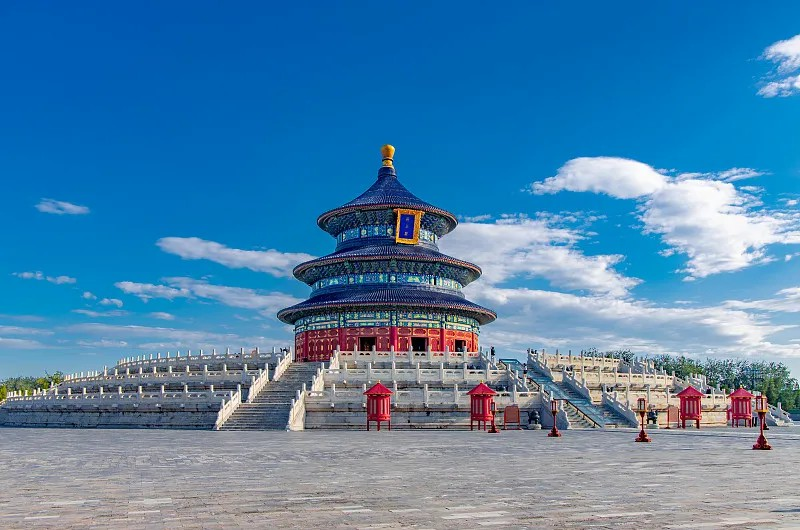Heaven: (276, 144, 497, 363)
